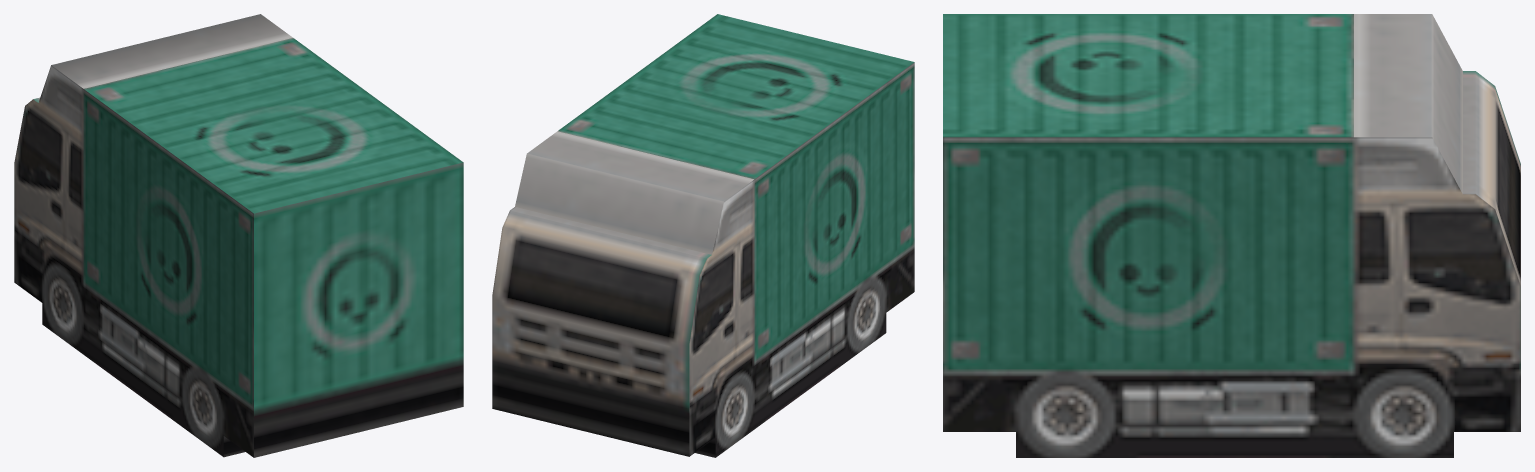
The model's file is truck_green.fbx.
3 views of the same model, side by side, from view 1: azimuth 30°, elevation 25°; view 2: azimuth 150°, elevation 25°; view 3: azimuth 270°, elevation 25° (orthographic). The views are drawn at different scales.
Parts seen in each view (by area): view 1: truck_green; view 2: truck_green; view 3: truck_green.
Boxes of the visible parts, left/top/right/bottom form: truck_green: left=14, top=14, right=463, bottom=457; truck_green: left=492, top=14, right=914, bottom=457; truck_green: left=943, top=14, right=1520, bottom=457.
Bounding box in the file's own units: 8.3 × 10.06 × 16.43.
